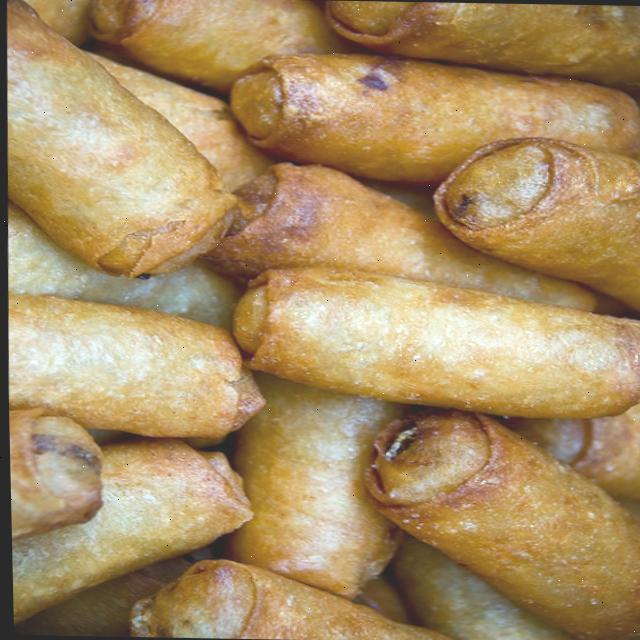炸货点心: (119, 36, 631, 558)
